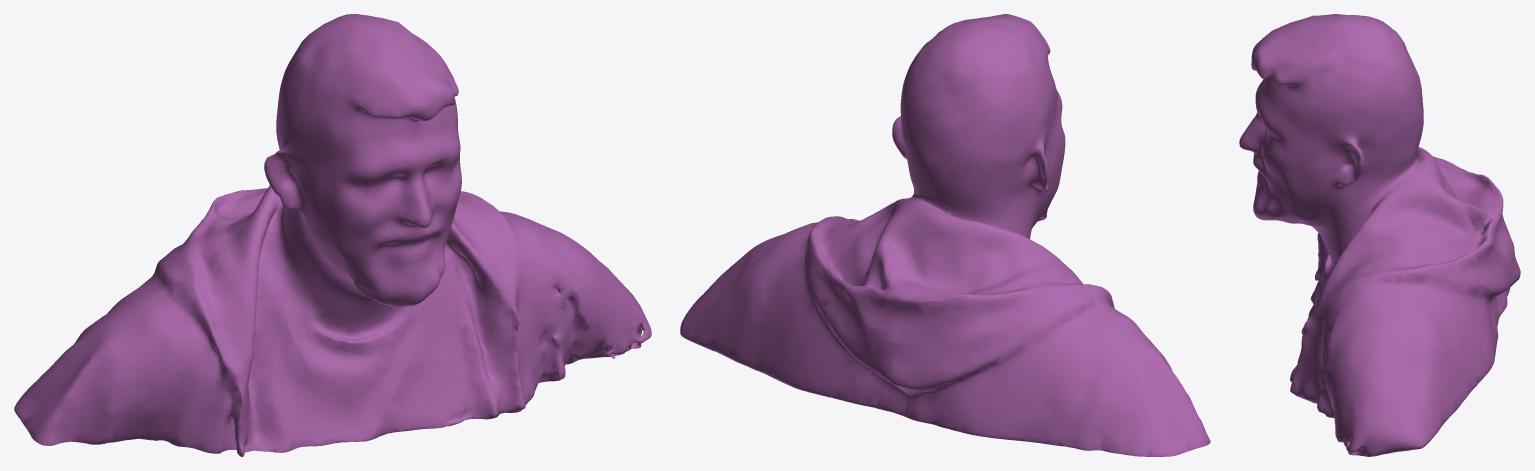
3 views of the same model, side by side, from view 1: azimuth 30°, elevation 25°; view 2: azimuth 150°, elevation 25°; view 3: azimuth 270°, elevation 25° (orthographic). The views are drawn at different scales.
Visible parts, largest first — view 1: Object_2; view 2: Object_2; view 3: Object_2.
Boxes of the visible parts, x1,y1,x2,y2 form: Object_2: (14, 14, 651, 456); Object_2: (680, 14, 1210, 456); Object_2: (1239, 14, 1520, 456).
Bounding box in the file's own units: 1 × 0.6445 × 0.5021.
